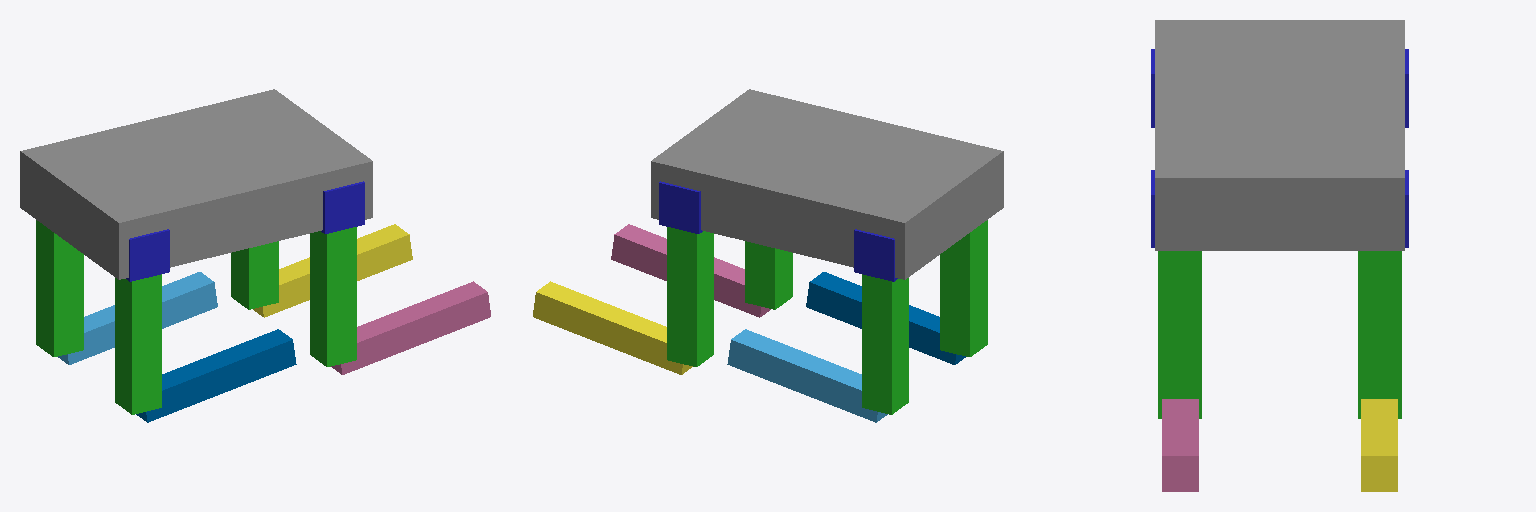
robot.urdf — hyperdog:
<?xml version="1.0"?>
<robot name="hyperdog">
  <!-- ================= BASE ================= -->
  <link name="base_link">
    <visual>
      <geometry>
        <box size="0.2536 0.17 0.05425 "/>
      </geometry>
      <origin xyz="0 0 0.027125" rpy="0 0 0"/>
      <material name="gray">
        <color rgba="0.6 0.6 0.6 1"/>
      </material>
    </visual>
  </link>

  
  <!-- ============ FRONT LEFT HIP ============ -->
  <link name="front_left_hip">
    <visual>
      <geometry>
        <box size="0.04 0.04 0.04"/>
      </geometry>
      <origin xyz="0 0 0"/>
      <material name="blue">
        <color rgba="0.2 0.2 0.8 1"/>
      </material>
    </visual>
  </link>

  <joint name="front_left_hip_joint" type="revolute">
    <parent link="base_link"/>
    <child link="front_left_hip"/>
    <origin xyz="0.0972 0.0678 0.0171" rpy="0 0 0"/>
    <axis xyz="1 0 0"/>
    <limit lower="-1.5708" upper="1.5708" effort="10" velocity="2"/>
  </joint>

  <!-- ============ THIGH ============ -->
  <link name="front_left_thigh">
    <visual>
      <geometry>
        <box size="0.03 0.03 0.15"/>
      </geometry>
      <origin xyz="0 0 -0.075"/>
      <material name="green">
        <color rgba="0.2 0.8 0.2 1"/>
      </material>
    </visual>
  </link>

  <joint name="front_left_thigh_joint" type="revolute">
    <parent link="front_left_hip"/>
    <child link="front_left_thigh"/>
    <origin xyz="0 0 0" rpy="0 0 0"/>
    <axis xyz="0 1 0"/>
    <limit lower="-1.9199" upper="1.0472" effort="10" velocity="2"/>
  </joint>


  <!-- ============ SHANK ============ -->
  <link name="front_left_shank">
    <visual>
      <geometry>
        <box size="0.025 0.025 0.15"/>
      </geometry>
      <!-- centro del shank hacia abajo -->
      <origin xyz="0 0 -0.075"/>
      <material name="red"/>
    </visual>
  </link>

  <joint name="front_left_knee_joint" type="revolute">
    <parent link="front_left_thigh"/>
    <child link="front_left_shank"/>
    <!-- nace al final del thigh -->
    <origin xyz="0 0 -0.15"/>
    <axis xyz="0 1 0"/>  <!-- pitch -->
    <limit lower="-3.0019" upper="-0.4189" effort="10" velocity="2"/>
  </joint>

  <!-- ============ FRONT RIGHT HIP ============ -->
  <link name="front_right_hip">
    <visual>
      <geometry>
        <box size="0.04 0.04 0.04"/>
      </geometry>
      <origin xyz="0 0 0"/>
      <material name="blue">
        <color rgba="0.2 0.2 0.8 1"/>
      </material>
    </visual>
  </link>

  <joint name="front_right_hip_joint" type="revolute">
    <parent link="base_link"/>
    <child link="front_right_hip"/>
    <origin xyz="0.0972 -0.0678 0.0171" rpy="0 0 0"/>
    <axis xyz="-1 0 0"/>
    <limit lower="-1.5708" upper="1.5708" effort="10" velocity="2"/>
  </joint>

  <!-- ============ THIGH ============ -->
  <link name="front_right_thigh">
    <visual>
      <geometry>
        <box size="0.03 0.03 0.15"/>
      </geometry>
      <origin xyz="0 0 -0.075"/>
      <material name="green">
        <color rgba="0.2 0.8 0.2 1"/>
      </material>
    </visual>
  </link>

  <joint name="front_right_thigh_joint" type="revolute">
    <parent link="front_right_hip"/>
    <child link="front_right_thigh"/>
    <origin xyz="0 0 0" rpy="0 0 0"/>
    <axis xyz="0 1 0"/>
    <limit lower="-1.9199" upper="1.0472" effort="10" velocity="2"/>
  </joint>


  <!-- ============ SHANK ============ -->
  <link name="front_right_shank">
    <visual>
      <geometry>
        <box size="0.025 0.025 0.15"/>
      </geometry>
      <!-- centro del shank hacia abajo -->
      <origin xyz="0 0 -0.075"/>
      <material name="red"/>
    </visual>
  </link>

  <joint name="front_right_knee_joint" type="revolute">
    <parent link="front_right_thigh"/>
    <child link="front_right_shank"/>
    <!-- nace al final del thigh -->
    <origin xyz="0 0 -0.15"/>
    <axis xyz="0 1 0"/>  <!-- pitch -->
    <limit lower="-3.0019" upper="-0.4189" effort="10" velocity="2"/>
  </joint>

  <!-- ============ REAR LEFT HIP ============ -->
  <link name="rear_left_hip">
    <visual>
      <geometry>
        <box size="0.04 0.04 0.04"/>
      </geometry>
      <origin xyz="0 0 0"/>
      <material name="blue">
        <color rgba="0.2 0.2 0.8 1"/>
      </material>
    </visual>
  </link>

  <joint name="rear_left_hip_joint" type="revolute">
    <parent link="base_link"/>
    <child link="rear_left_hip"/>
    <origin xyz="-0.0972 0.0678 0.0171" rpy="0 0 0"/>
    <axis xyz="1 0 0"/>
    <limit lower="-1.5708" upper="1.5708" effort="10" velocity="2"/>
  </joint>

  <!-- ============ THIGH ============ -->
  <link name="rear_left_thigh">
    <visual>
      <geometry>
        <box size="0.03 0.03 0.15"/>
      </geometry>
      <origin xyz="0 0 -0.075"/>
      <material name="green">
        <color rgba="0.2 0.8 0.2 1"/>
      </material>
    </visual>
  </link>

  <joint name="rear_left_thigh_joint" type="revolute">
    <parent link="rear_left_hip"/>
    <child link="rear_left_thigh"/>
    <origin xyz="0 0 0" rpy="0 0 0"/>
    <axis xyz="0 1 0"/>
    <limit lower="-1.9199" upper="1.0472" effort="10" velocity="2"/>
  </joint>


  <!-- ============ SHANK ============ -->
  <link name="rear_left_shank">
    <visual>
      <geometry>
        <box size="0.025 0.025 0.15"/>
      </geometry>
      <!-- centro del shank hacia abajo -->
      <origin xyz="0 0 -0.075"/>
      <material name="red"/>
    </visual>
  </link>

  <joint name="rear_left_knee_joint" type="revolute">
    <parent link="rear_left_thigh"/>
    <child link="rear_left_shank"/>
    <!-- nace al final del thigh -->
    <origin xyz="0 0 -0.15"/>
    <axis xyz="0 1 0"/>  <!-- pitch -->
    <limit lower="-3.0019" upper="-0.4189" effort="10" velocity="2"/>
  </joint>

  <!-- ============ REAR RIGHT HIP ============ -->
  <link name="rear_right_hip">
    <visual>
      <geometry>
        <box size="0.04 0.04 0.04"/>
      </geometry>
      <origin xyz="0 0 0"/>
      <material name="blue">
        <color rgba="0.2 0.2 0.8 1"/>
      </material>
    </visual>
  </link>

  <joint name="rear_right_hip_joint" type="revolute">
    <parent link="base_link"/>
    <child link="rear_right_hip"/>
    <origin xyz="-0.0972 -0.0678 0.0171" rpy="0 0 0"/>
    <axis xyz="-1 0 0"/>
    <limit lower="-1.5708" upper="1.5708" effort="10" velocity="2"/>
  </joint>

  <!-- ============ THIGH ============ -->
  <link name="rear_right_thigh">
    <visual>
      <geometry>
        <box size="0.03 0.03 0.15"/>
      </geometry>
      <origin xyz="0 0 -0.075"/>
      <material name="green">
        <color rgba="0.2 0.8 0.2 1"/>
      </material>
    </visual>
  </link>

  <joint name="rear_right_thigh_joint" type="revolute">
    <parent link="rear_right_hip"/>
    <child link="rear_right_thigh"/>
    <origin xyz="0 0 0" rpy="0 0 0"/>
    <axis xyz="0 1 0"/>
    <limit lower="-1.9199" upper="1.0472" effort="10" velocity="2"/>
  </joint>


  <!-- ============ SHANK ============ -->
  <link name="rear_right_shank">
    <visual>
      <geometry>
        <box size="0.025 0.025 0.15"/>
      </geometry>
      <!-- centro del shank hacia abajo -->
      <origin xyz="0 0 -0.075"/>
      <material name="red"/>
    </visual>
  </link>

  <joint name="rear_right_knee_joint" type="revolute">
    <parent link="rear_right_thigh"/>
    <child link="rear_right_shank"/>
    <!-- nace al final del thigh -->
    <origin xyz="0 0 -0.15"/>
    <axis xyz="0 1 0"/>  <!-- pitch -->
    <limit lower="-3.0019" upper="-0.4189" effort="10" velocity="2"/>
  </joint>
</robot>

--- Facts derived from the render (not from the file) ---
Views: 3 orthographic renders of the robot side by side, from view 1: azimuth 30°, elevation 25°; view 2: azimuth 150°, elevation 25°; view 3: azimuth 270°, elevation 25°.
Model hyperdog with 13 links and 12 joints (12 revolute), rooted at base_link, posed joints at zero except 4 at the middle of their limits (front_left_knee_joint = -1.71, front_right_knee_joint = -1.71, rear_left_knee_joint = -1.71, rear_right_knee_joint = -1.71).
Visible links, largest first — view 1: base_link, rear_right_thigh, front_right_thigh, rear_right_shank, front_right_shank, rear_left_thigh, rear_left_shank, front_left_shank, front_left_thigh, front_right_hip, rear_right_hip; view 2: base_link, rear_left_thigh, front_left_thigh, rear_left_shank, front_left_shank, rear_right_thigh, rear_right_shank, front_right_shank, front_right_thigh, front_left_hip, rear_left_hip; view 3: base_link, front_left_thigh, front_right_thigh, front_left_shank, front_right_shank.
Link boxes in pixels (x1,y1,x2,y2): base_link: [20, 89, 372, 279]; rear_right_thigh: [115, 274, 161, 414]; front_right_thigh: [310, 227, 356, 366]; rear_right_shank: [136, 329, 296, 422]; front_right_shank: [331, 281, 490, 374]; rear_left_thigh: [36, 220, 83, 356]; rear_left_shank: [58, 272, 217, 364]; front_left_shank: [253, 224, 412, 317]; front_left_thigh: [231, 241, 278, 309]; front_right_hip: [321, 181, 364, 233]; rear_right_hip: [126, 229, 169, 281]; base_link: [651, 89, 1003, 279]; rear_left_thigh: [862, 274, 908, 414]; front_left_thigh: [667, 227, 713, 366]; rear_left_shank: [727, 329, 887, 422]; front_left_shank: [533, 281, 692, 374]; rear_right_thigh: [940, 220, 987, 356]; rear_right_shank: [806, 272, 965, 364]; front_right_shank: [611, 224, 770, 317]; front_right_thigh: [745, 241, 792, 309]; front_left_hip: [659, 181, 702, 233]; rear_left_hip: [854, 229, 897, 281]; base_link: [1155, 20, 1404, 250]; front_left_thigh: [1358, 251, 1401, 418]; front_right_thigh: [1158, 251, 1201, 418]; front_left_shank: [1361, 399, 1397, 491]; front_right_shank: [1162, 399, 1198, 491].
Bounding box of the posed robot: 0.3743 × 0.1756 × 0.1995 m (x, y, z).
Geometry: primitives only (box / cylinder / sphere), no mesh files.